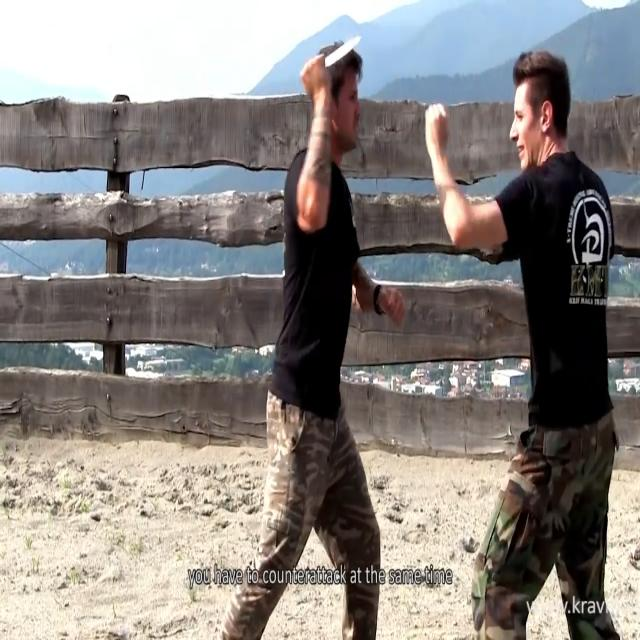knife: (324, 31, 365, 72)
